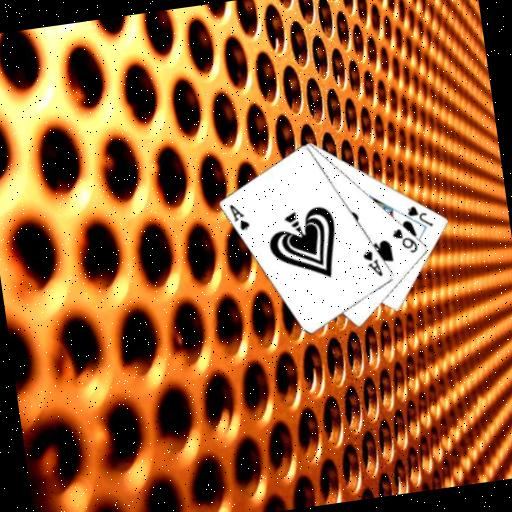6S: (389, 223, 420, 257)
AS: (359, 246, 385, 281), (227, 199, 253, 234)
JS: (403, 201, 435, 232)
